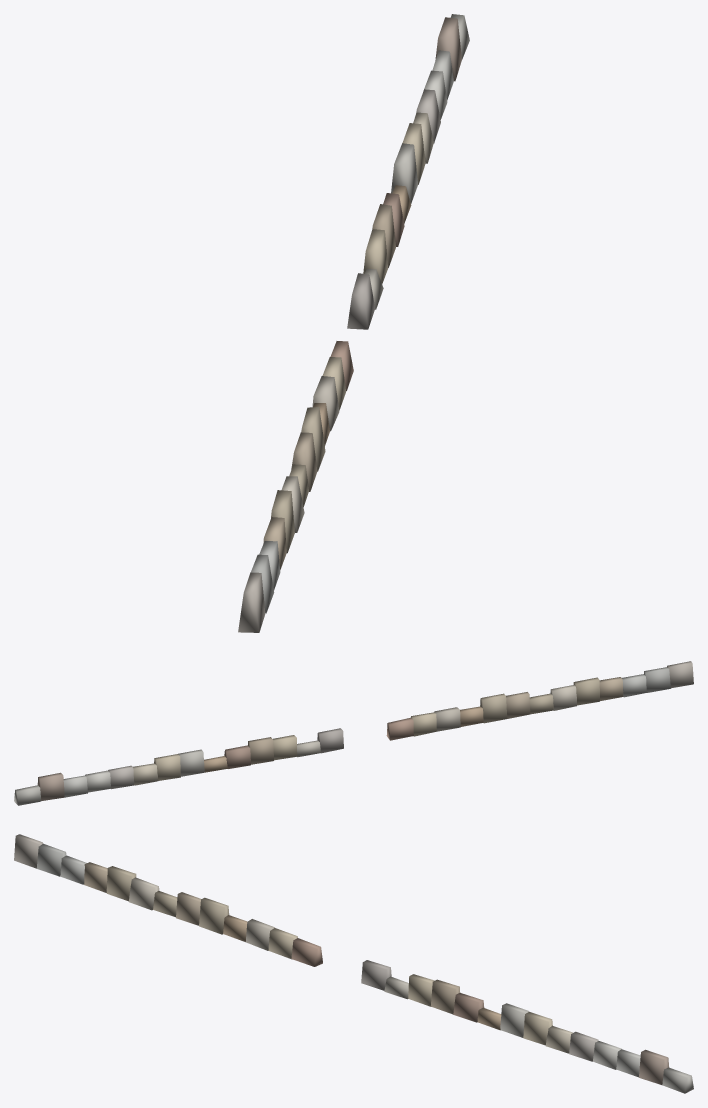
File: farm_19_24_far.glb
The picture shows the model from 3 angles, top to bottom: view 1: azimuth 30°, elevation 25°; view 2: azimuth 150°, elevation 25°; view 3: azimuth 270°, elevation 25°; orthographic projection. The views are drawn at different scales.
Visible parts, largest first — view 1: geometry_0; view 2: geometry_0; view 3: geometry_0.
Part boxes in pixels (x1,y1,x2,y2): geometry_0: [238, 14, 469, 632]; geometry_0: [14, 661, 693, 805]; geometry_0: [14, 834, 693, 1093].
Bounding box in the file's own units: 28.32 × 1.89 × 35.61.
